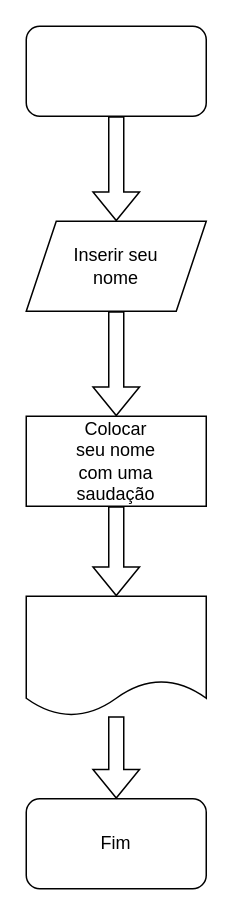
The diagram is 233 pixels wide and 915 high, and some of its shapes have lost their labels. The centre of each missing label's shape, as x and y in pixels:
"Imprimir a mensagem no console" belongs at [115,655].
"Inicio" belongs at [115,70].
